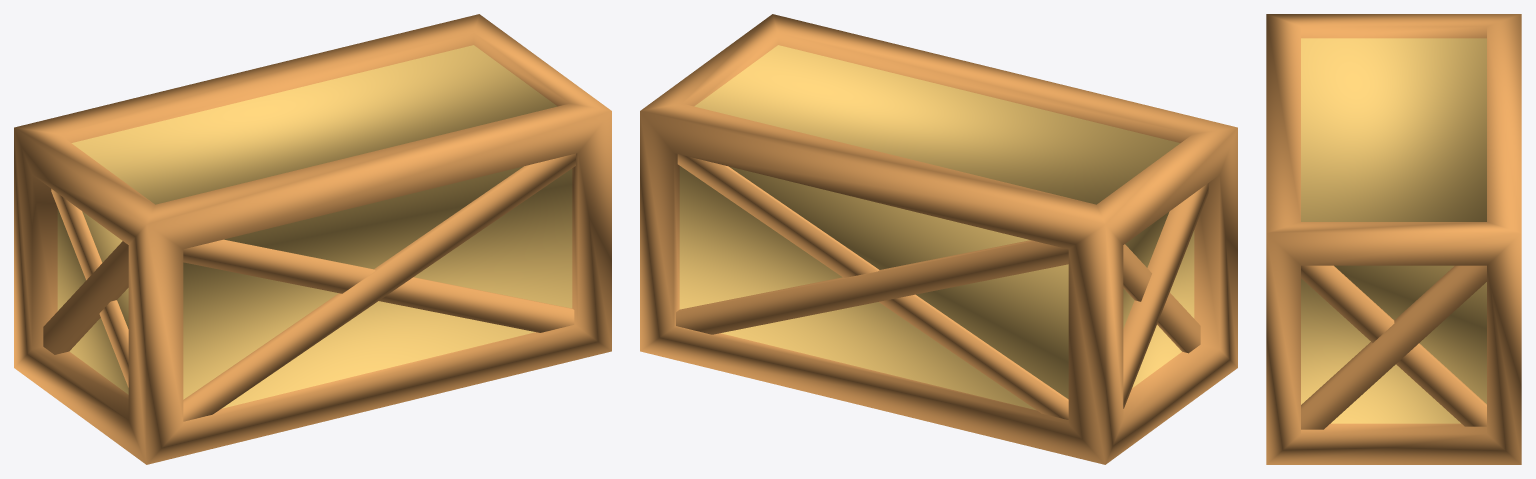
File: CrateB.fbx
3 views of the same model, side by side, from view 1: azimuth 30°, elevation 25°; view 2: azimuth 150°, elevation 25°; view 3: azimuth 270°, elevation 25° (orthographic). The views are drawn at different scales.
Parts seen in each view (by area): view 1: Obj_CrateB; view 2: Obj_CrateB; view 3: Obj_CrateB.
Part boxes in pixels (bbox=[...]): Obj_CrateB: bbox=[14, 14, 611, 464]; Obj_CrateB: bbox=[640, 14, 1237, 464]; Obj_CrateB: bbox=[1266, 14, 1521, 464].
Size of the model in its own units: 399 by 810 by 400.
